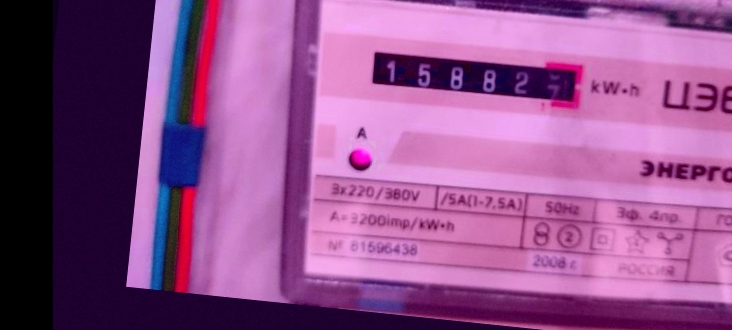1: (383, 57, 400, 83)
2: (513, 69, 530, 94)
5: (415, 59, 433, 87)
7: (545, 80, 561, 100)
8: (448, 64, 466, 91), (481, 66, 498, 93)
screen: (355, 34, 594, 120)
